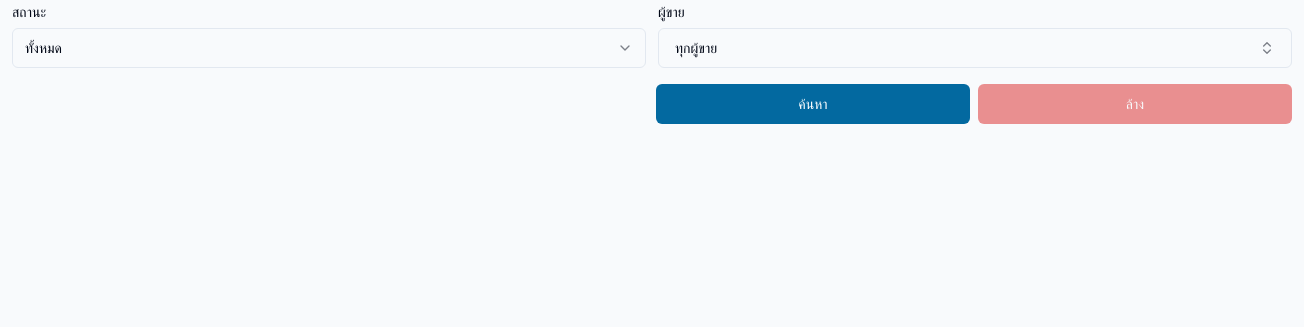
Test: POListFilterForm › ล้าง is disabled while pristine and enables after a change
Check: the button "ล้าง" is disabled, box [978,84,1292,124]
Click the dropdown named "สถานะ". click: (44, 48)
box: [12,28,646,68]
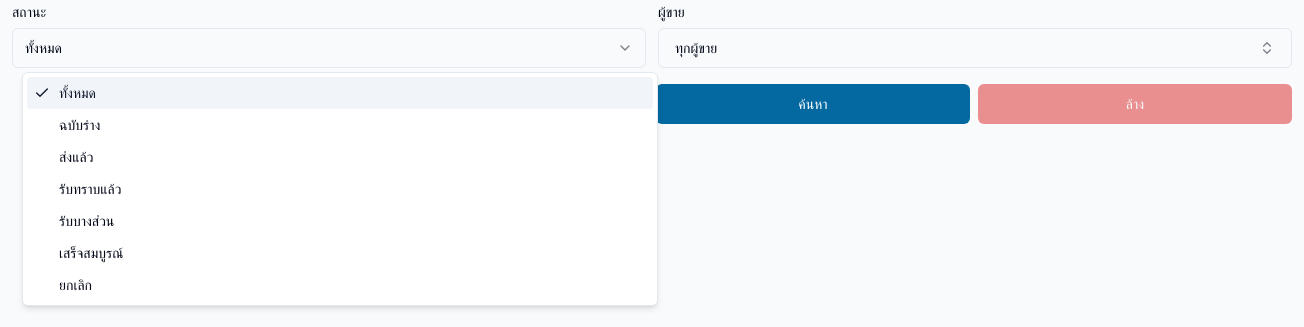
Click the option "ส่งแล้ว". click: (76, 157)
box: [59,149,93,165]
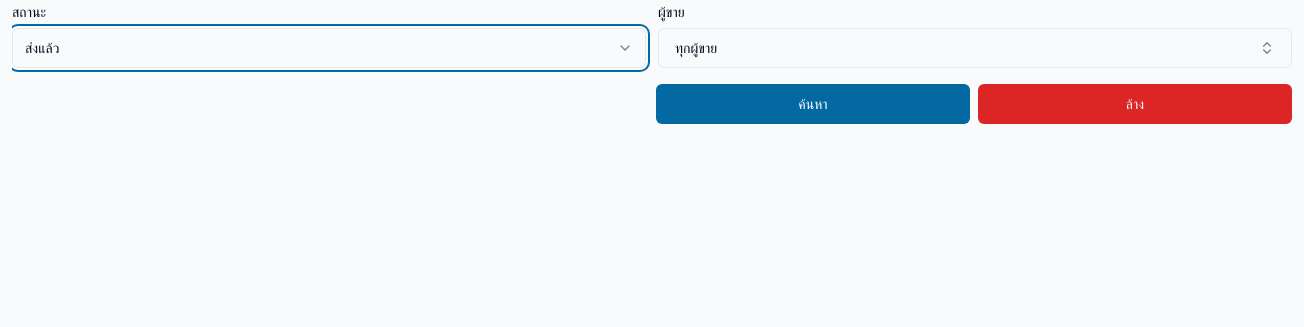
Check: the button "ล้าง" is enabled, box [978,84,1292,124]
